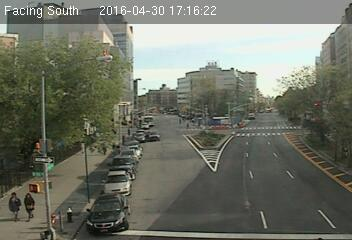neg: (166, 36, 198, 80), (307, 98, 336, 137), (80, 88, 106, 122), (25, 73, 50, 107), (170, 107, 194, 139), (260, 117, 284, 149), (88, 155, 112, 187), (256, 46, 278, 76), (60, 204, 78, 228), (215, 105, 232, 128)
pos: (5, 190, 25, 217), (23, 193, 39, 214)
